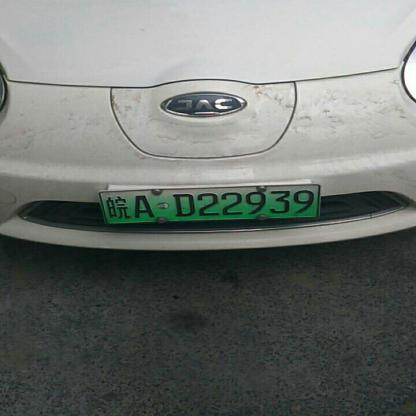lp: (100, 186, 318, 223)
